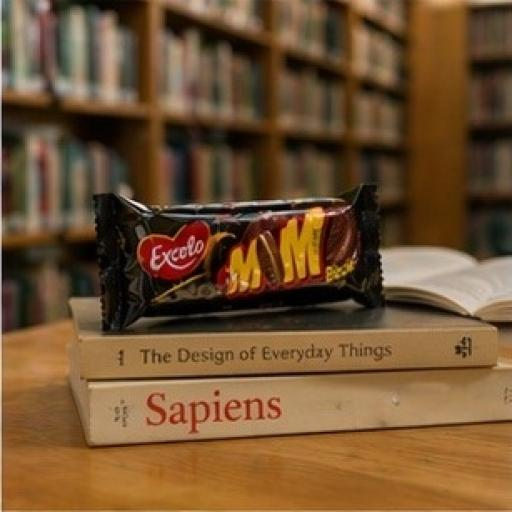MOMO: (68, 146, 388, 396)
